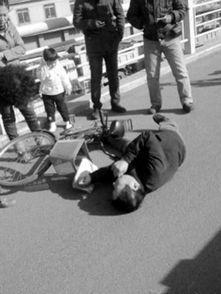Fall-Detected: (75, 107, 191, 212)
